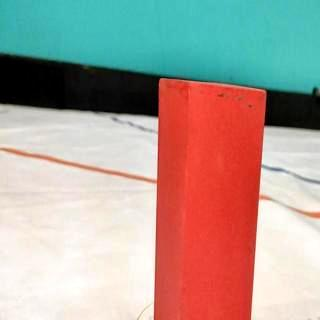redbox: (154, 77, 268, 320)
